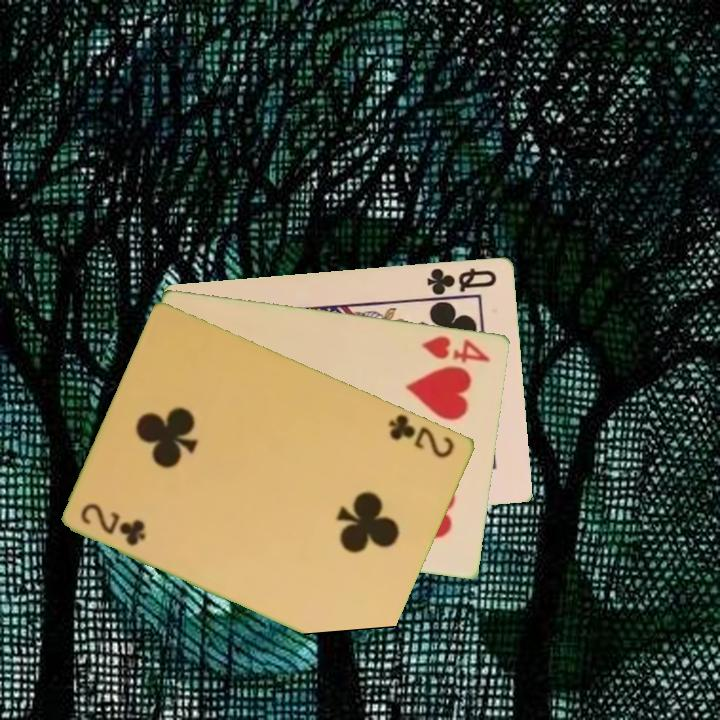2c: (385, 410, 458, 461), (77, 499, 149, 549)
4h: (419, 332, 494, 366)
Qc: (423, 264, 500, 298)
